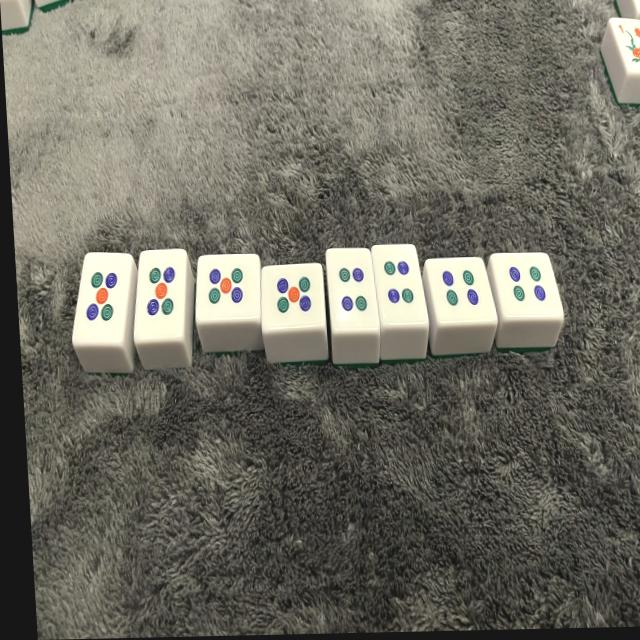ff1: (611, 16, 640, 71)
t2: (429, 257, 498, 323), (497, 255, 563, 318)
t4: (429, 257, 498, 323), (374, 247, 430, 323), (497, 255, 563, 318), (328, 251, 380, 323)
t5: (67, 255, 140, 346), (127, 249, 193, 340), (192, 254, 263, 322), (260, 265, 327, 331)
